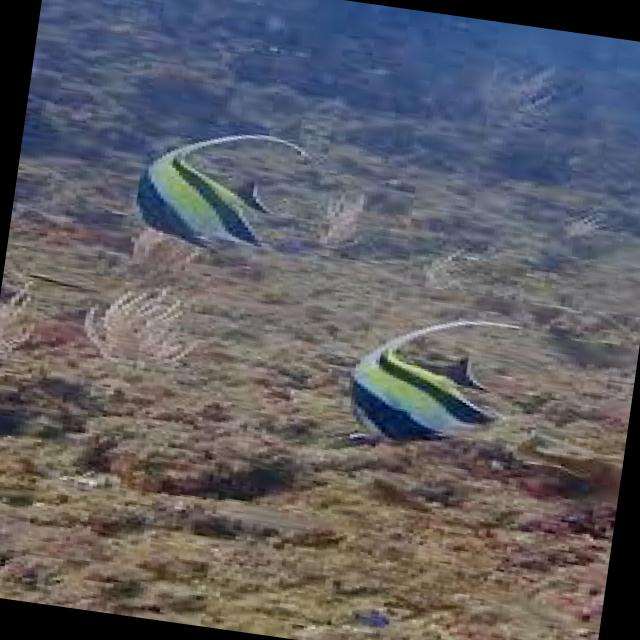MorishIdol: (330, 296, 524, 466), (109, 115, 310, 262)
